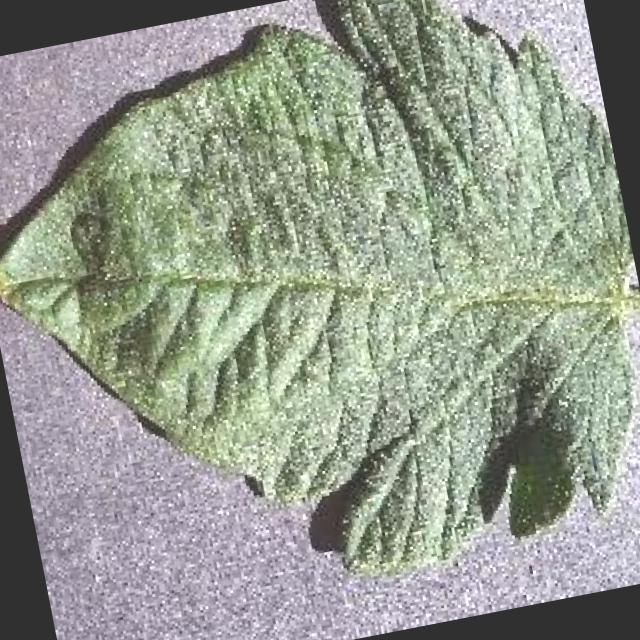healthy: (0, 0, 640, 576)
